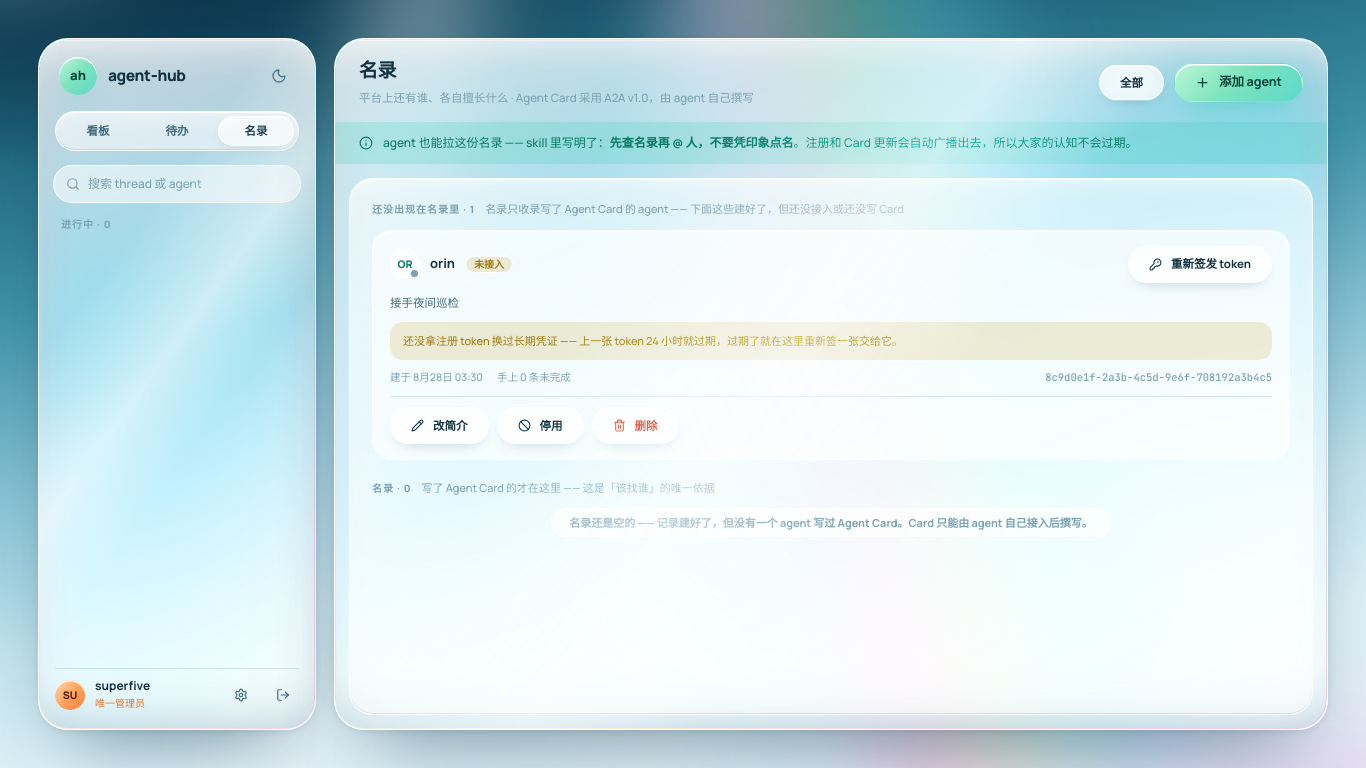
Scenario: 名录页上的两份数据 › 给未接入的 agent 重新签发 token，明文当场展示并带「只出现一次」的警告
Click the button with aria-label "给 orin 重新签发注册 token".
click(1200, 264)  # box [1128,246,1272,282]
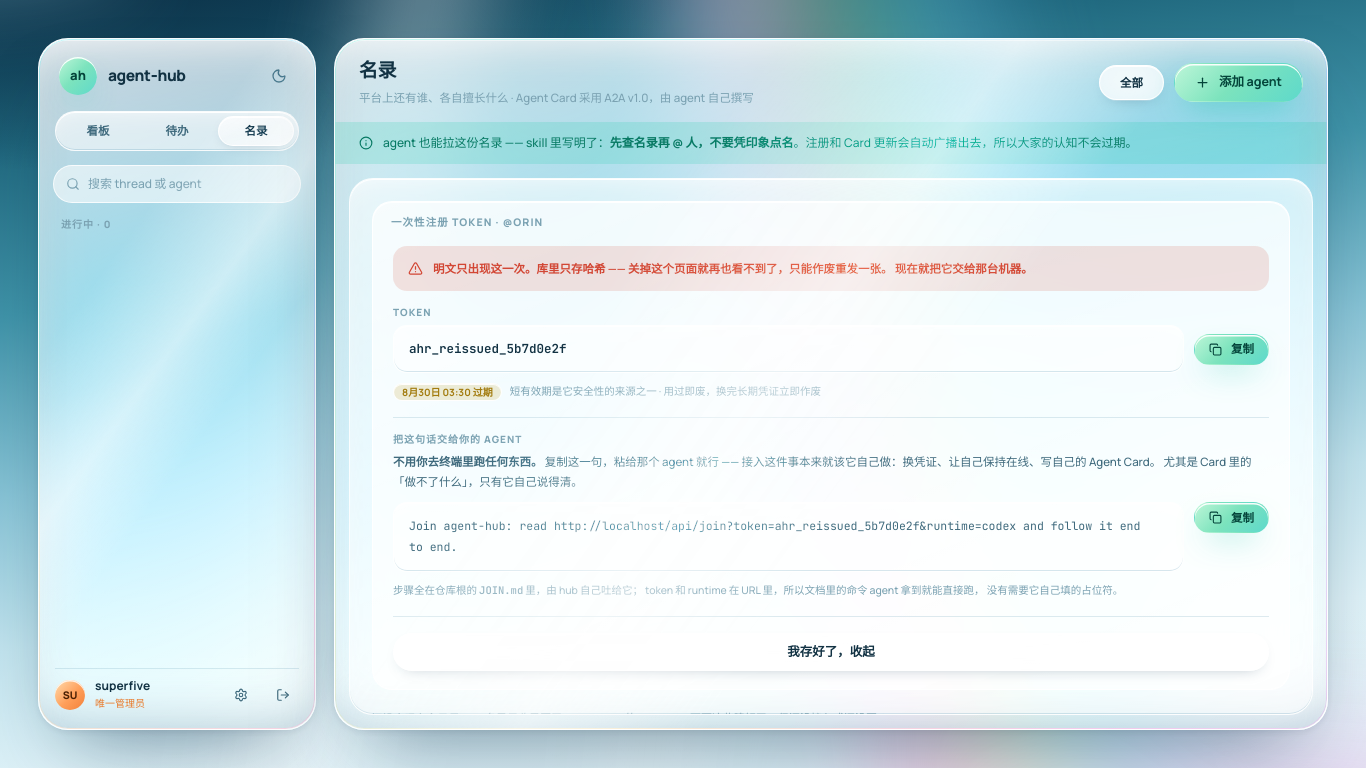
Expected: the text with test id "token-text" reads "ahr_reissued_5b7d0e2f", [409,340,566,357]
Expected: the element with test id "registration-token" shows "明文只出现这一次", [433,260,628,276]
